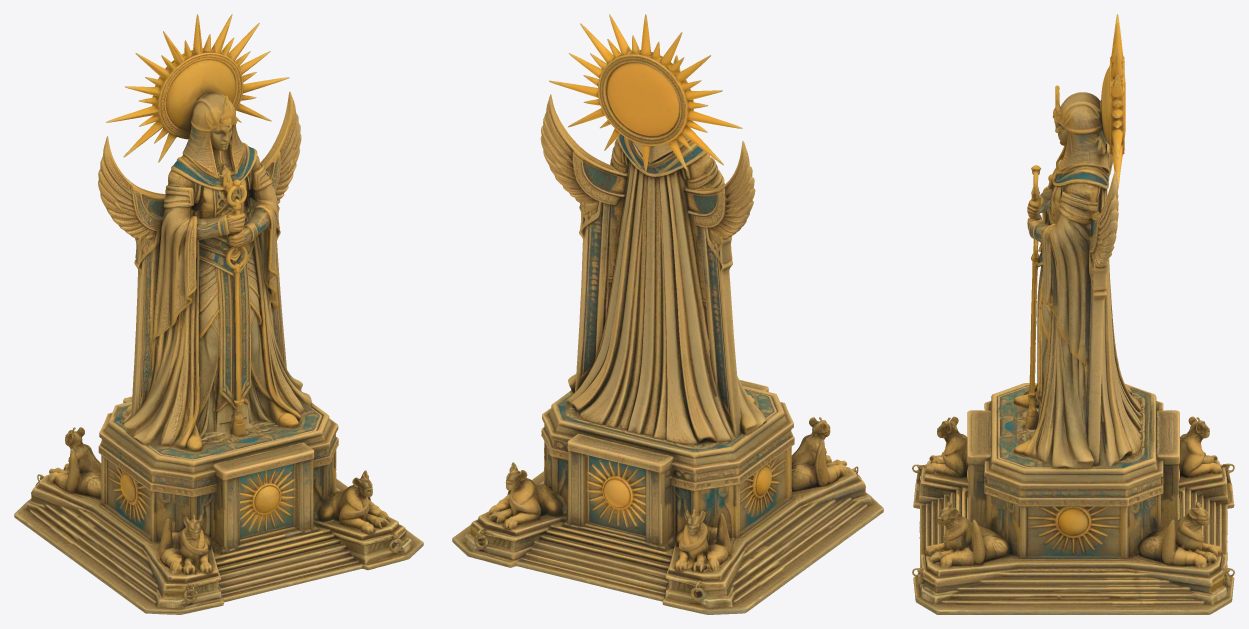
Rendered from ancient-world-guardian.glb.
The picture shows the model from 3 angles, left to right: view 1: azimuth 30°, elevation 25°; view 2: azimuth 150°, elevation 25°; view 3: azimuth 270°, elevation 25°; orthographic projection. The views are drawn at different scales.
Bounding box in the file's own units: 1.1 × 1.9 × 1.06.
Materials: 1 (1 with a texture image).
